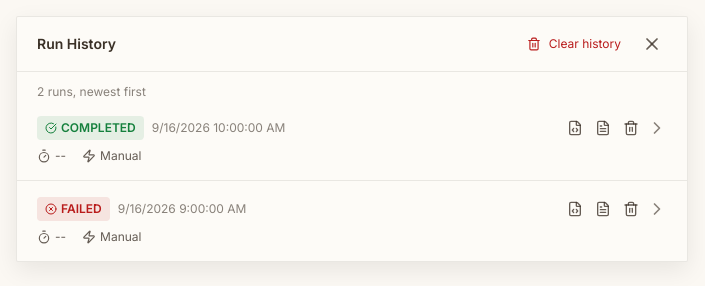
Test: HistoryModal › deletes a run after confirmation and reloads the list
Click the button named "Delete run run-newer" at (631, 128), box [619,116,643,140]
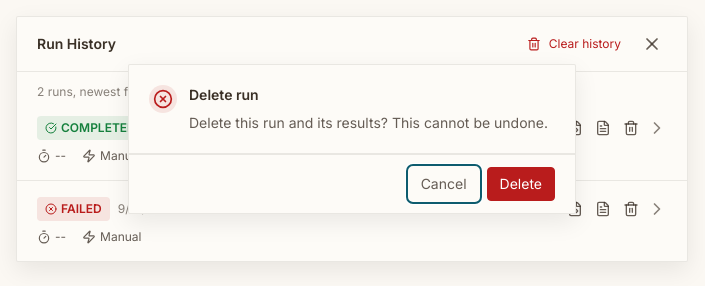
Click the button "Delete" at (521, 184), box [487,167,555,201]
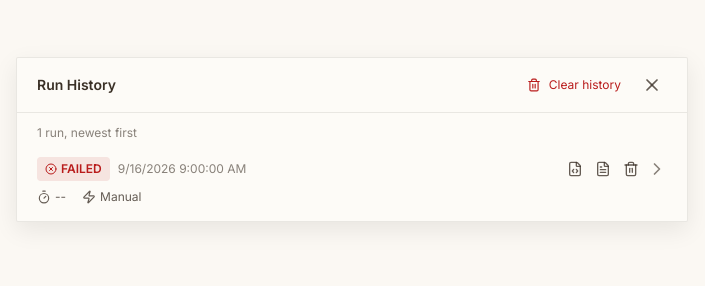
Expected: the button "completed" is gone
